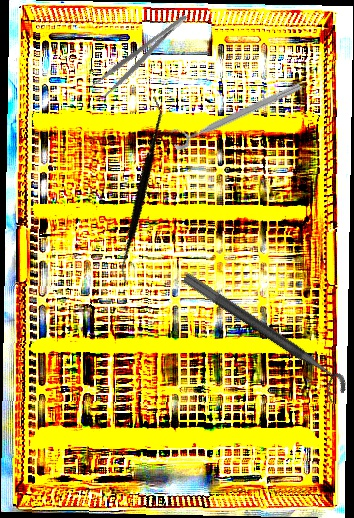Dressing Forceps: (89, 11, 196, 101)
Fixation Ring: (172, 271, 352, 406), (167, 71, 304, 153)
Spatula Surgical: (67, 95, 213, 287)
